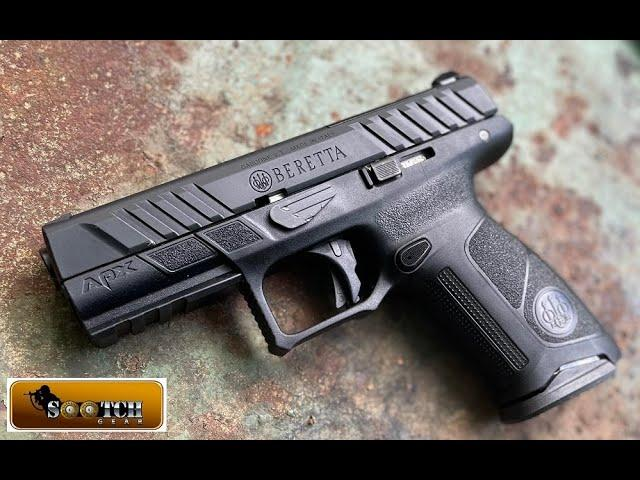handgun: (31, 64, 630, 428)
